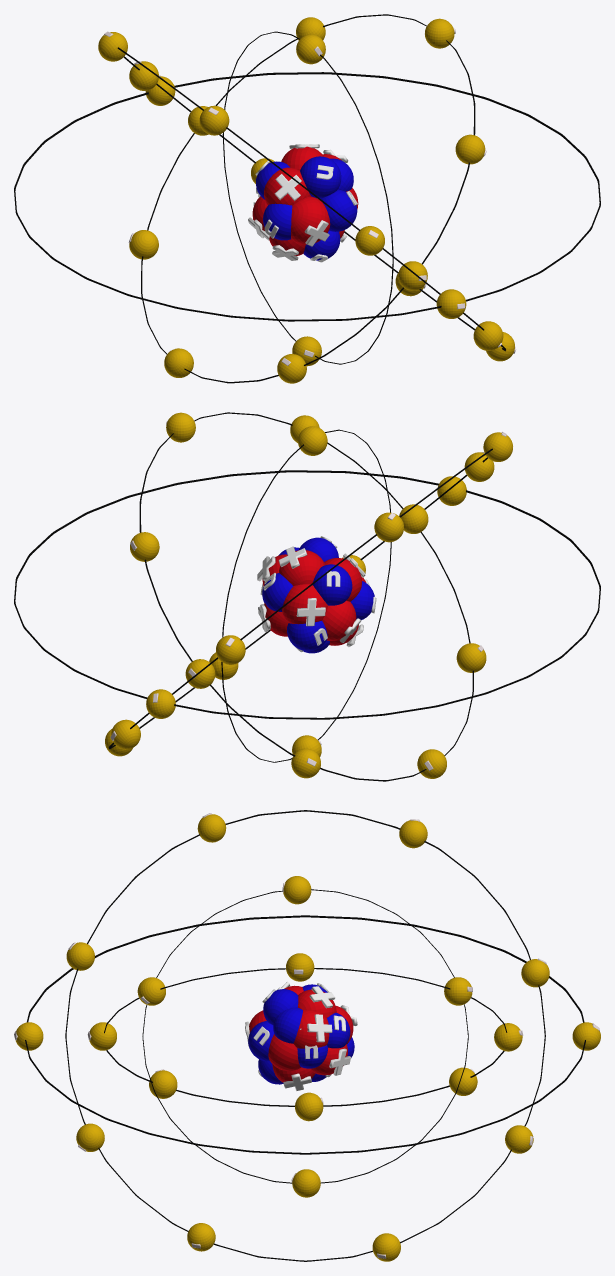
3 renders of one model, top to bottom at view 1: azimuth 30°, elevation 25°; view 2: azimuth 150°, elevation 25°; view 3: azimuth 270°, elevation 25°, orthographic. The views are drawn at different scales.
Parts seen in each view (by area): view 1: Circle.003, Circle.001, Sphere.025, Circle, Circle.002, Sphere.008, Sphere.012, Sphere.014, Sphere.018, Sphere.026, Sphere.013, Sphere.016 (+15 smaller); view 2: Circle.003, Circle.001, Circle, Circle.002, Sphere.015, Sphere.005, Sphere.011, Sphere.007, Sphere.022, Sphere.003, Sphere.026, Sphere.027 (+16 smaller); view 3: Circle.003, Circle.002, Circle.001, Circle, Sphere, Sphere.024, Sphere.008, Sphere.030, Sphere.002, Sphere.016, Sphere.034, Sphere.003 (+17 smaller).
Boxes of the visible parts, x1,y1,x2,y2 form: Circle.003: (14,72,600,321); Circle.001: (141,14,475,383); Sphere.025: (291,196,330,244); Circle: (222,31,393,364); Circle.002: (117,47,505,351); Sphere.008: (300,156,341,198); Sphere.012: (320,189,357,231); Sphere.014: (264,167,310,205); Sphere.018: (263,203,292,240); Sphere.026: (425,18,454,48); Sphere.013: (455,134,485,164); Sphere.016: (164,348,193,377); Circle.003: (14,470,600,719); Circle.001: (139,412,473,781); Circle: (221,429,391,762); Circle.002: (109,448,492,749); Sphere.015: (313,564,352,605); Sphere.005: (282,584,328,624); Sphere.011: (322,600,356,640); Sphere.007: (279,550,324,585); Sphere.022: (287,620,327,651); Sphere.003: (298,426,327,455); Sphere.026: (166,412,195,442); Sphere.027: (263,573,293,611); Circle.003: (25,915,585,1154); Circle.002: (65,810,545,1261); Circle.001: (104,968,507,1106); Circle: (142,889,468,1183); Sphere: (268,1034,301,1070); Sphere.024: (273,1007,302,1043); Sphere.008: (263,989,298,1024); Sphere.030: (293,1010,329,1048); Sphere.002: (292,1169,320,1197); Sphere.016: (295,1092,323,1121); Sphere.034: (521,959,549,987); Sphere.003: (283,876,311,904).
Bounding box in the file's own units: 99.42 × 62.06 × 104.
